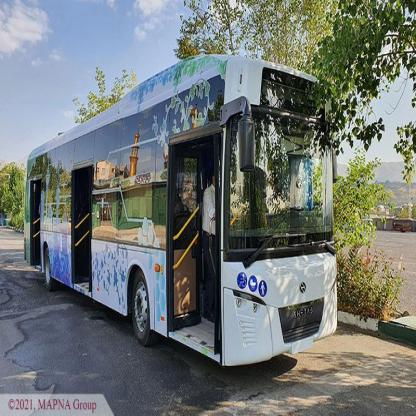Bus: (19, 46, 343, 377)
